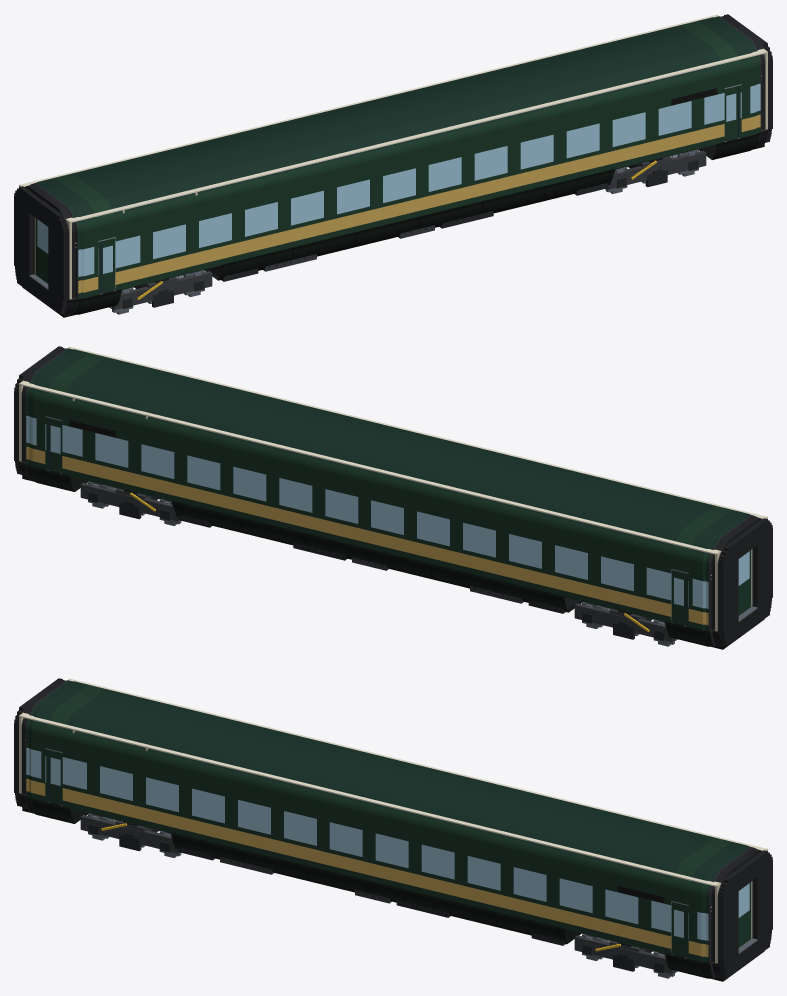
The model's file is gg1_car.obj.
3 renders of one model, top to bottom at view 1: azimuth 30°, elevation 25°; view 2: azimuth 150°, elevation 25°; view 3: azimuth 330°, elevation 25°, orthographic.
Visible parts, largest first — view 1: SHELL, SHELL_diaphragm, SHELL_ceiling, BOGEY_FRONT, BOGEY_REAR, FRAME, CONNECTING_DOOR_1_CG_CR_TOGGLE_TL_0.98_Z, EXTERNAL_DOOR_10_CG_DR2_TOGGLE_TL_-0.44_X, EXTERNAL_DOOR_5_CG_DR1_TOGGLE_TL_0.44_X, SHELL_end; view 2: SHELL, SHELL_diaphragm, SHELL_ceiling, BOGEY_FRONT, BOGEY_REAR, FRAME, CONNECTING_DOOR_1_CG_CR_TOGGLE_TL_0.98_Z, EXTERNAL_DOOR_13_CG_DL2_TOGGLE_TL_-0.44_X, EXTERNAL_DOOR_8_CG_DL1_TOGGLE_TL_0.44_X, SHELL_end; view 3: SHELL, SHELL_diaphragm, SHELL_ceiling, BOGEY_FRONT, BOGEY_REAR, FRAME, EXTERNAL_DOOR_10_CG_DR2_TOGGLE_TL_-0.44_X, CONNECTING_DOOR_2_CG_CF_TOGGLE_TL_0.98_Z, EXTERNAL_DOOR_5_CG_DR1_TOGGLE_TL_0.44_X, SHELL_end.
Part boxes in pixels (x1,y1,x2,y2): SHELL: (22, 15, 768, 317); SHELL_diaphragm: (14, 14, 772, 314); SHELL_ceiling: (21, 15, 766, 222); BOGEY_FRONT: (607, 150, 706, 189); BOGEY_REAR: (112, 271, 212, 309); FRAME: (98, 136, 741, 294); CONNECTING_DOOR_1_CG_CR_TOGGLE_TL_0.98_Z: (35, 218, 48, 283); EXTERNAL_DOOR_10_CG_DR2_TOGGLE_TL_-0.44_X: (724, 86, 738, 140); EXTERNAL_DOOR_5_CG_DR1_TOGGLE_TL_0.44_X: (101, 238, 115, 292); SHELL_end: (19, 14, 767, 299); SHELL: (18, 347, 764, 649); SHELL_diaphragm: (14, 346, 772, 646); SHELL_ceiling: (20, 347, 765, 554); BOGEY_FRONT: (80, 482, 179, 521); BOGEY_REAR: (574, 603, 674, 641); FRAME: (45, 468, 688, 626); CONNECTING_DOOR_1_CG_CR_TOGGLE_TL_0.98_Z: (738, 550, 751, 615); EXTERNAL_DOOR_13_CG_DL2_TOGGLE_TL_-0.44_X: (48, 418, 62, 472); EXTERNAL_DOOR_8_CG_DL1_TOGGLE_TL_0.44_X: (671, 570, 685, 624); SHELL_end: (19, 346, 767, 631); SHELL: (18, 679, 764, 981); SHELL_diaphragm: (14, 678, 772, 978); SHELL_ceiling: (20, 679, 765, 886); BOGEY_FRONT: (574, 935, 674, 973); BOGEY_REAR: (80, 814, 179, 853); FRAME: (45, 800, 688, 958); EXTERNAL_DOOR_10_CG_DR2_TOGGLE_TL_-0.44_X: (671, 902, 686, 956); CONNECTING_DOOR_2_CG_CF_TOGGLE_TL_0.98_Z: (738, 882, 751, 947); EXTERNAL_DOOR_5_CG_DR1_TOGGLE_TL_0.44_X: (49, 750, 62, 804); SHELL_end: (19, 678, 767, 963).
Bounding box in the file's own units: 24.72 × 4.1 × 3.22.
1 material, 1 textured.
